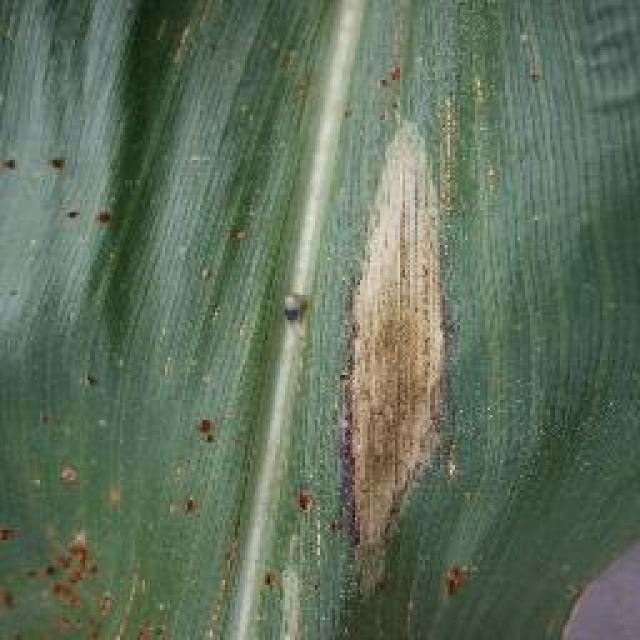Corn___Northern_Leaf_Blight: (185, 88, 535, 616)
